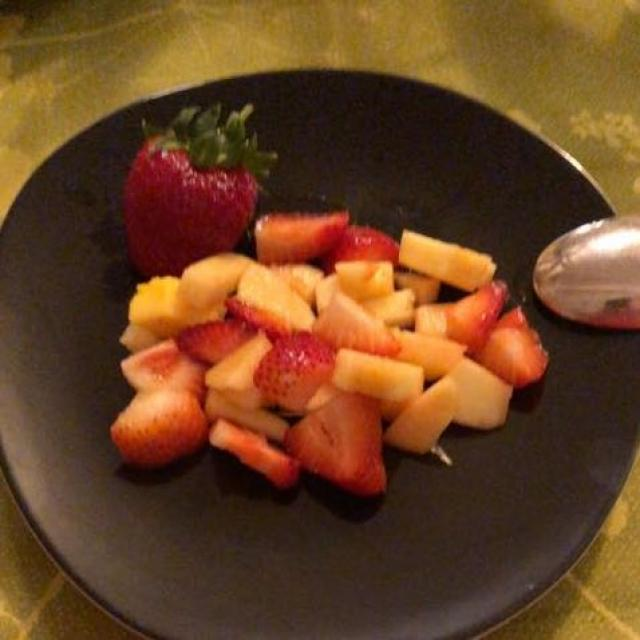fruit-salad: (116, 116, 536, 493)
